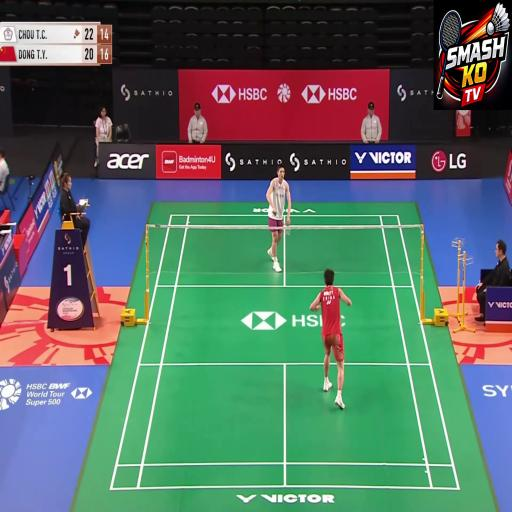player: (314, 270, 360, 402), (263, 168, 294, 271)
